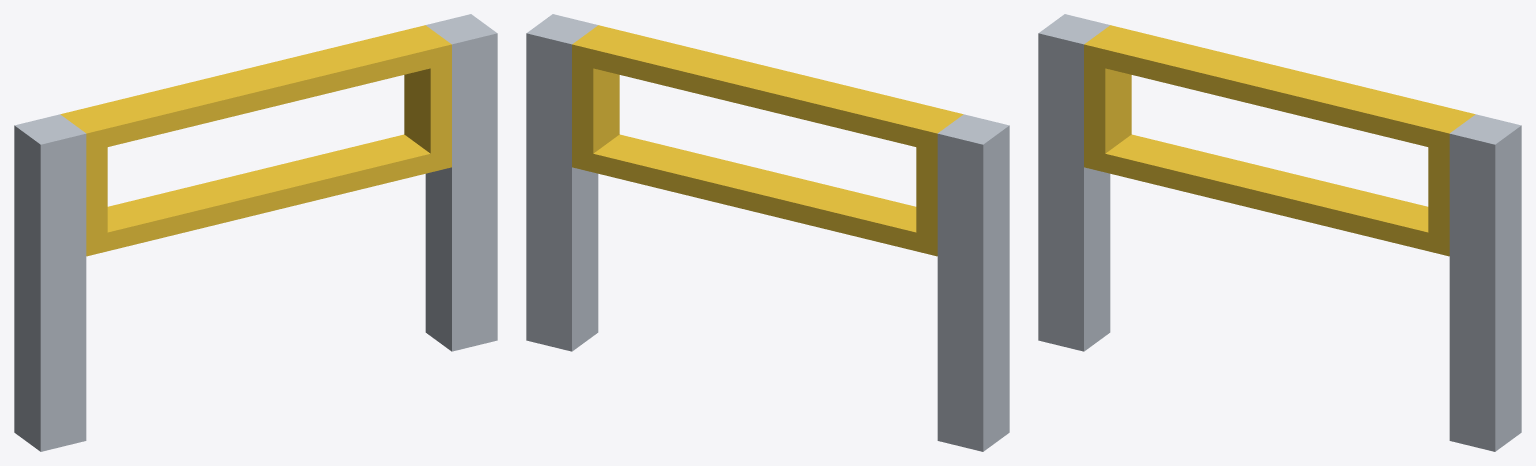
Rendered from semaforo_poste.obj.
3 views of the same model, side by side, from view 1: azimuth 30°, elevation 25°; view 2: azimuth 150°, elevation 25°; view 3: azimuth 330°, elevation 25° (orthographic).
Parts seen in each view (by area): view 1: Poste_Izquierdo, Poste_Derecho, Encapsulado_Superior, Encapsulado_Inferior, Encapsulado_Derecho, Encapsulado_Izquierdo; view 2: Poste_Izquierdo, Poste_Derecho, Encapsulado_Superior, Encapsulado_Inferior, Encapsulado_Derecho, Encapsulado_Izquierdo; view 3: Poste_Derecho, Poste_Izquierdo, Encapsulado_Superior, Encapsulado_Inferior, Encapsulado_Izquierdo, Encapsulado_Derecho.
Part boxes in pixels (x1,y1,x2,y2): Poste_Izquierdo: (14, 114, 86, 451); Poste_Derecho: (425, 14, 497, 351); Encapsulado_Superior: (60, 25, 451, 152); Encapsulado_Inferior: (86, 134, 451, 256); Encapsulado_Derecho: (404, 63, 451, 153); Encapsulado_Izquierdo: (86, 147, 107, 237); Poste_Izquierdo: (937, 114, 1009, 451); Poste_Derecho: (526, 14, 598, 351); Encapsulado_Superior: (572, 25, 963, 152); Encapsulado_Inferior: (572, 134, 937, 256); Encapsulado_Derecho: (572, 63, 619, 153); Encapsulado_Izquierdo: (916, 147, 937, 237); Poste_Derecho: (1449, 114, 1521, 451); Poste_Izquierdo: (1038, 14, 1110, 351); Encapsulado_Superior: (1084, 25, 1475, 152); Encapsulado_Inferior: (1084, 134, 1449, 256); Encapsulado_Izquierdo: (1084, 63, 1131, 153); Encapsulado_Derecho: (1428, 147, 1449, 237).
Bounding box in the file's own units: 14 × 9 × 1.4.
